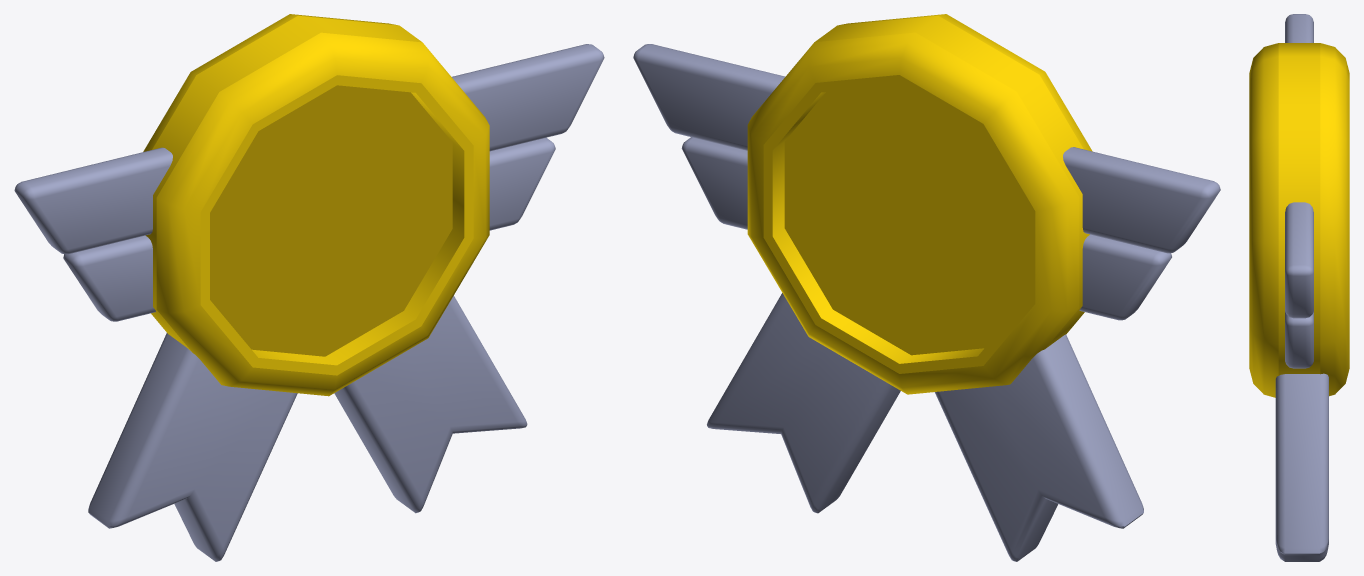
Rendered from Medal_7.fbx.
3 renders of one model, left to right at view 1: azimuth 30°, elevation 25°; view 2: azimuth 150°, elevation 25°; view 3: azimuth 270°, elevation 25°, orthographic. The views are drawn at different scales.
Visible parts, largest first — view 1: Medal_7; view 2: Medal_7; view 3: Medal_7.
Part boxes in pixels (x1,y1,x2,y2): Medal_7: [14, 14, 604, 561]; Medal_7: [633, 14, 1220, 561]; Medal_7: [1249, 14, 1349, 561].
Size of the model in its own units: 0.2998 by 0.2502 by 0.0494.
